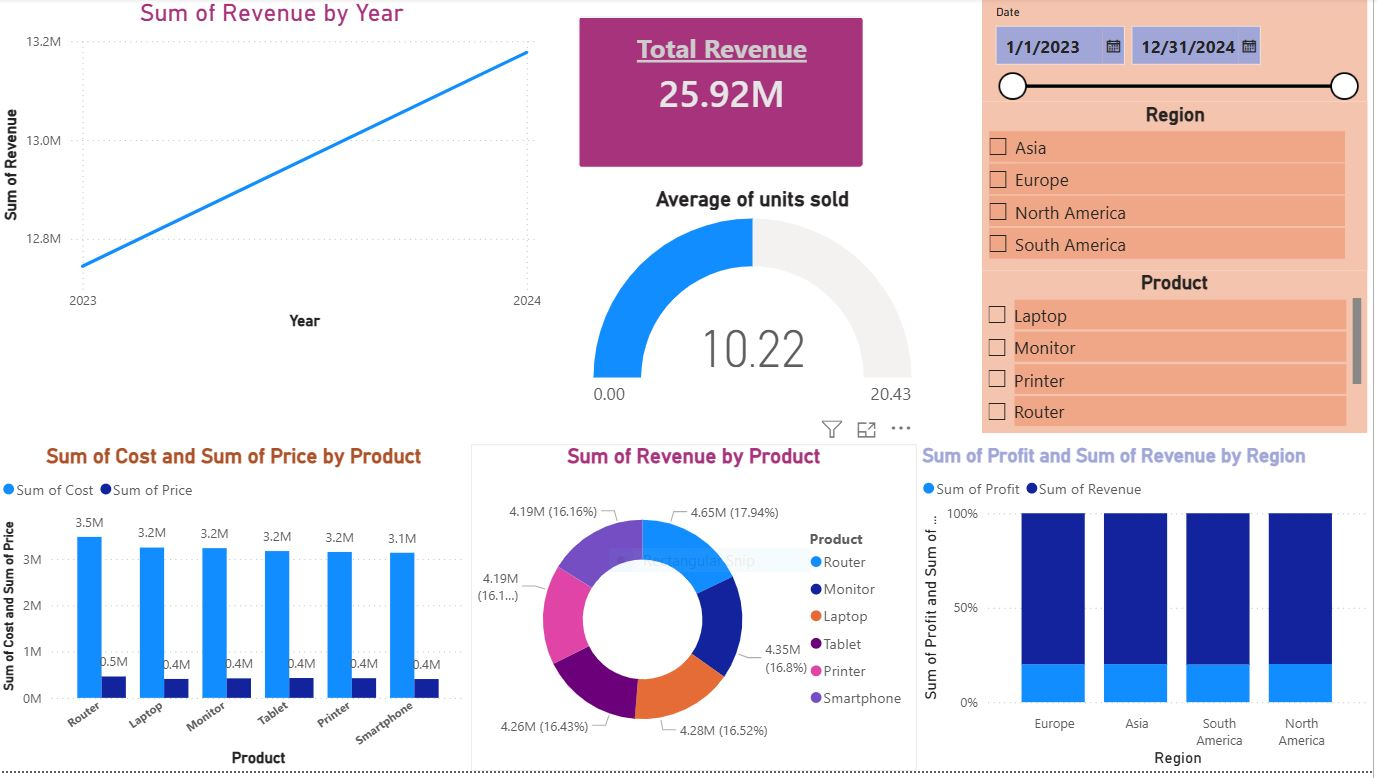

This screenshot's page, from the dashboard's own definition file:
{"tool":"powerbi","page":{"name":"Page 1","canvas":[1280,720],"ordinal":0},"visuals":[{"type":"donutChart","fields":{"Category":["retail_sales_data_dirty.Product"],"Y":["Sum(retail_sales_data_dirty.Revenue)"]},"box":[440.7,415.1,415.1,304.7],"z":0},{"type":"lineChart","fields":{"Category":["retail_sales_data_dirty.Date.Variation.Date Hierarchy.Year","retail_sales_data_dirty.Date.Variation.Date Hierarchy.Quarter","retail_sales_data_dirty.Date.Variation.Date Hierarchy.Month","retail_sales_data_dirty.Date.Variation.Date Hierarchy.Day"],"Y":["Sum(retail_sales_data_dirty.Revenue)"]},"box":[0,0,510.9,313.9],"z":1000},{"type":"hundredPercentStackedColumnChart","fields":{"Category":["retail_sales_data_dirty.Region"],"Y":["Sum(retail_sales_data_dirty.Profit)","Sum(retail_sales_data_dirty.Revenue)"]},"box":[855.8,415.1,424.4,304.7],"z":2000},{"type":"cardVisual","fields":{"Data":["Sum(retail_sales_data_dirty.Revenue)"]},"box":[523.2,0,300.6,175.9],"z":3000},{"type":"gauge","fields":{"Y":["retail_sales_data_dirty.Average of units sold"]},"box":[550,175.6,305.8,217.4],"z":4000},{"type":"clusteredColumnChart","fields":{"Y":["Sum(retail_sales_data_dirty.Cost)","Sum(retail_sales_data_dirty.Price)"],"Category":["retail_sales_data_dirty.Product"]},"box":[0,415.1,440.7,304.7],"z":5000},{"type":"listSlicer","fields":{"Values":["retail_sales_data_dirty.Region"]},"box":[916.3,96.5,358.1,157],"z":6000},{"type":"listSlicer","fields":{"Values":["retail_sales_data_dirty.Product"]},"box":[916.3,253.5,358.1,151.2],"z":7000},{"type":"slicer","fields":{"Values":["retail_sales_data_dirty.Date"]},"box":[916.3,1.2,358.1,95.3],"z":8000}]}

Visuals, with their boxes in screenshot pixels (x1, y1, x2, y2), scaled from the page's 1280x720 canvas onto the 1377x778 screenshot:
donutChart - retail_sales_data_dirty.Product x Sum(retail_sales_data_dirty.Revenue): [474, 449, 921, 777]
lineChart - retail_sales_data_dirty.Date.Variation.Date Hierarchy.Year x retail_sales_data_dirty.Date.Variation.Date Hierarchy.Quarter: [0, 0, 550, 339]
hundredPercentStackedColumnChart - retail_sales_data_dirty.Region x Sum(retail_sales_data_dirty.Profit): [921, 449, 1376, 777]
cardVisual - Sum(retail_sales_data_dirty.Revenue): [563, 0, 886, 190]
gauge - retail_sales_data_dirty.Average of units sold: [592, 190, 921, 425]
clusteredColumnChart - Sum(retail_sales_data_dirty.Cost) x Sum(retail_sales_data_dirty.Price): [0, 449, 474, 777]
listSlicer - retail_sales_data_dirty.Region: [986, 104, 1371, 274]
listSlicer - retail_sales_data_dirty.Product: [986, 274, 1371, 437]
slicer - retail_sales_data_dirty.Date: [986, 1, 1371, 104]
